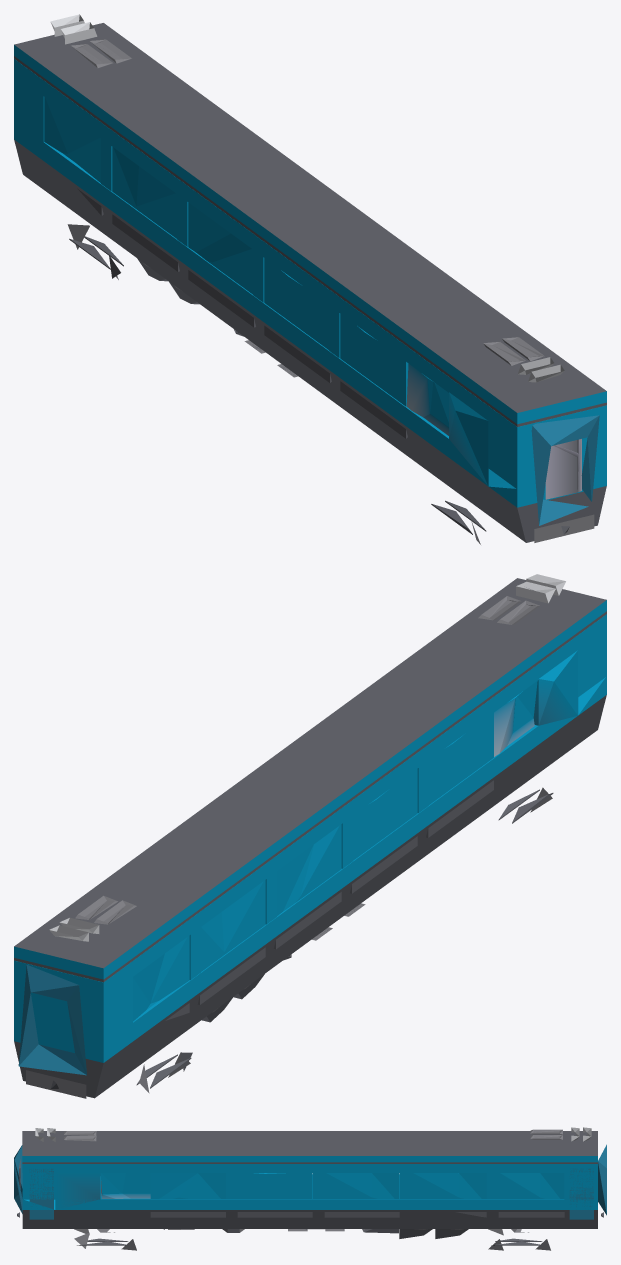
File: passenger-car.lod1.glb
3 renders of one model, top to bottom at view 1: azimuth 30°, elevation 25°; view 2: azimuth 150°, elevation 25°; view 3: azimuth 270°, elevation 25°, orthographic. The views are drawn at different scales.
Parts seen in each view (by area): view 1: wheel_medium_steel(Clone)_0; view 2: wheel_medium_steel(Clone)_0; view 3: wheel_medium_steel(Clone)_0.
Part boxes in pixels (x1,y1,x2,y2): wheel_medium_steel(Clone)_0: (14, 14, 606, 544); wheel_medium_steel(Clone)_0: (14, 574, 606, 1098); wheel_medium_steel(Clone)_0: (14, 1127, 606, 1250).
Bounding box in the file's own units: 2.1 × 4.14 × 20.06.
